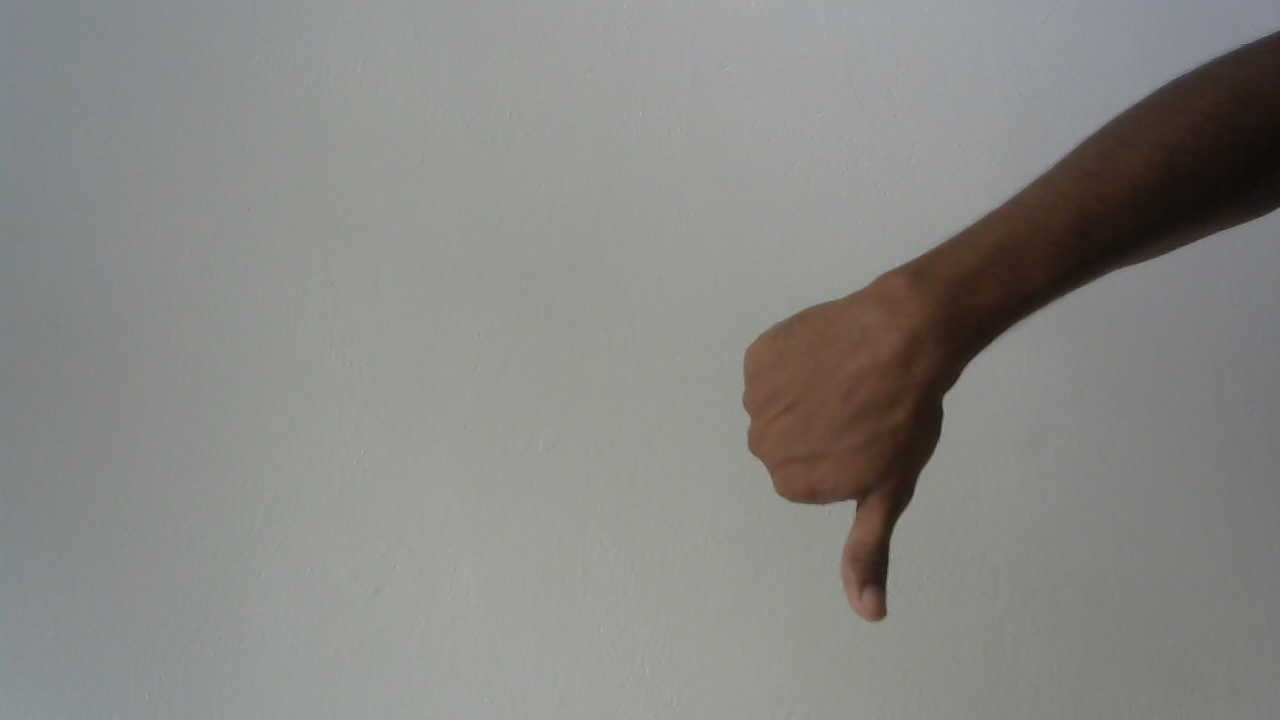thumbsdown: (722, 256, 985, 637)
